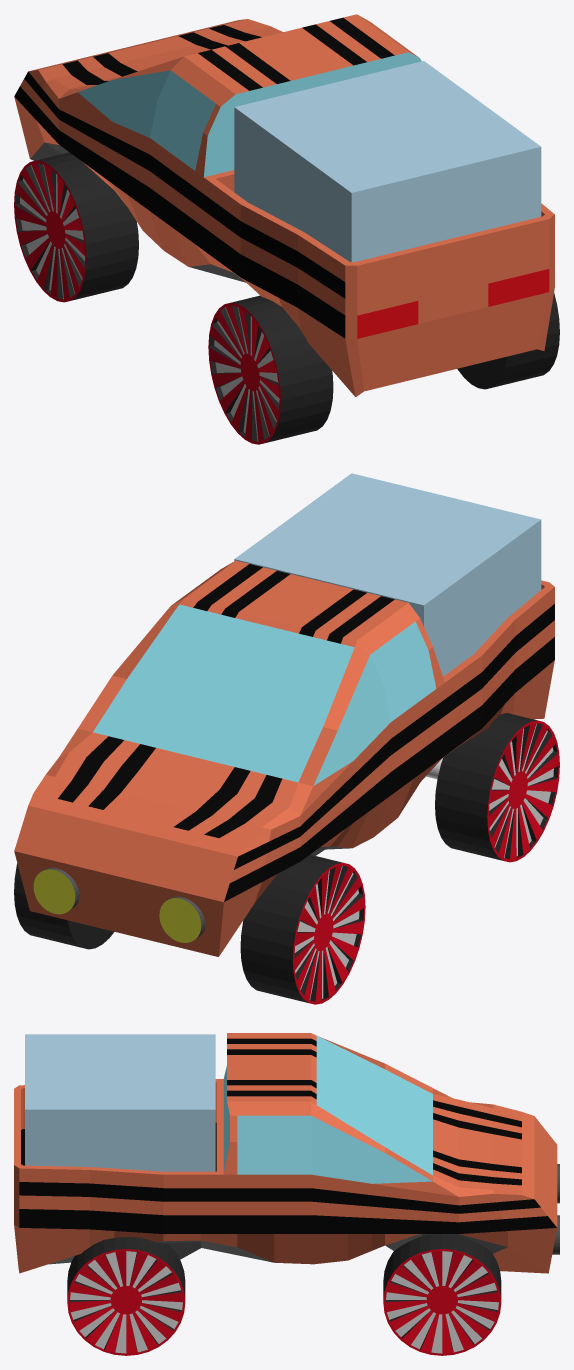
File: Simple Car FBX.fbx
The picture shows the model from 3 angles, top to bottom: view 1: azimuth 30°, elevation 25°; view 2: azimuth 150°, elevation 25°; view 3: azimuth 270°, elevation 25°; orthographic projection. The views are drawn at different scales.
Visible parts, largest first — view 1: Base, Fuel Tank, Wheel Front Right, Wheel Back Right, Wheel Back Left; view 2: Base, Fuel Tank, Wheel Back Right, Wheel Front Right, Wheel Front Left; view 3: Base, Fuel Tank, Wheel Front Left, Wheel Back Left.
Part boxes in pixels (x1,y1,x2,y2): Base: (14,14,554,397); Fuel Tank: (234,61,541,261); Wheel Front Right: (14,152,138,302); Wheel Back Right: (208,295,333,444); Wheel Back Left: (457,292,559,389); Base: (14,560,554,956); Fuel Tank: (234,473,541,676); Wheel Back Right: (435,713,559,862); Wheel Front Right: (240,854,365,1004); Wheel Front Left: (14,863,114,949); Base: (14,1033,559,1273); Fuel Tank: (25,1034,215,1171); Wheel Front Left: (383,1234,501,1355); Wheel Back Left: (67,1237,185,1355).
Size of the model in its own units: 2.66 by 2.61 by 5.55.
